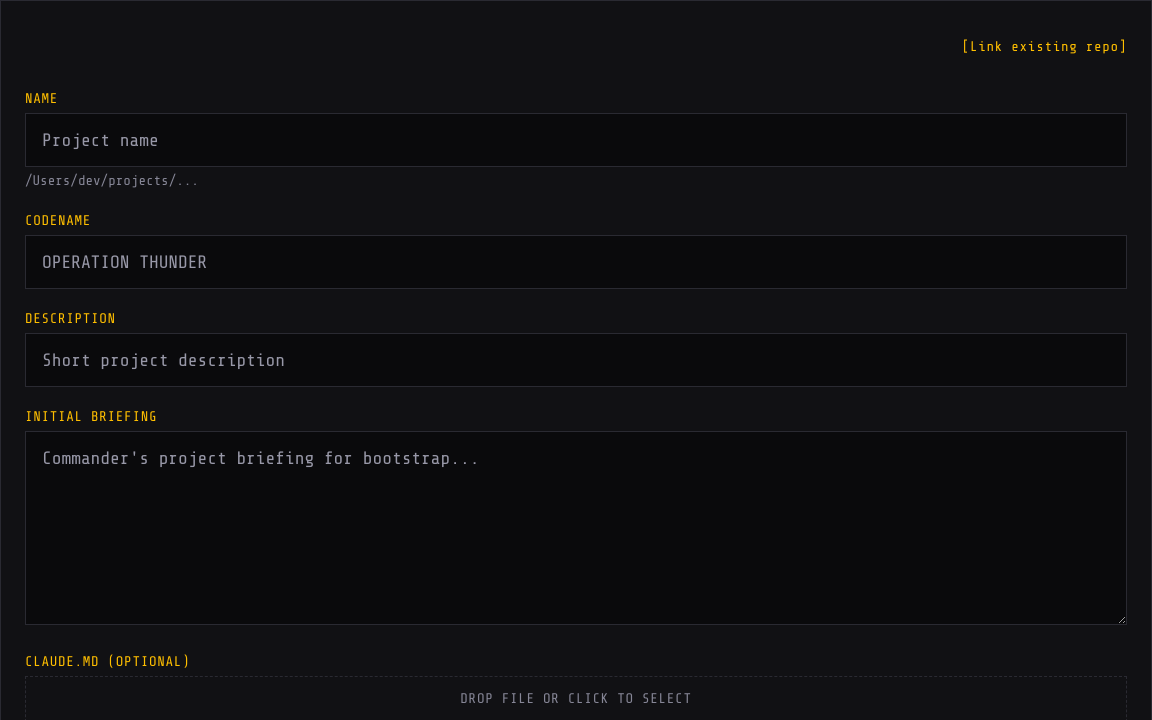
Test: CreateBattlefield › auto-generates codename from name
Type "test project" into the field with placeholder "Project name" at {"x": 576, "y": 140}, box [25,113,1127,167]
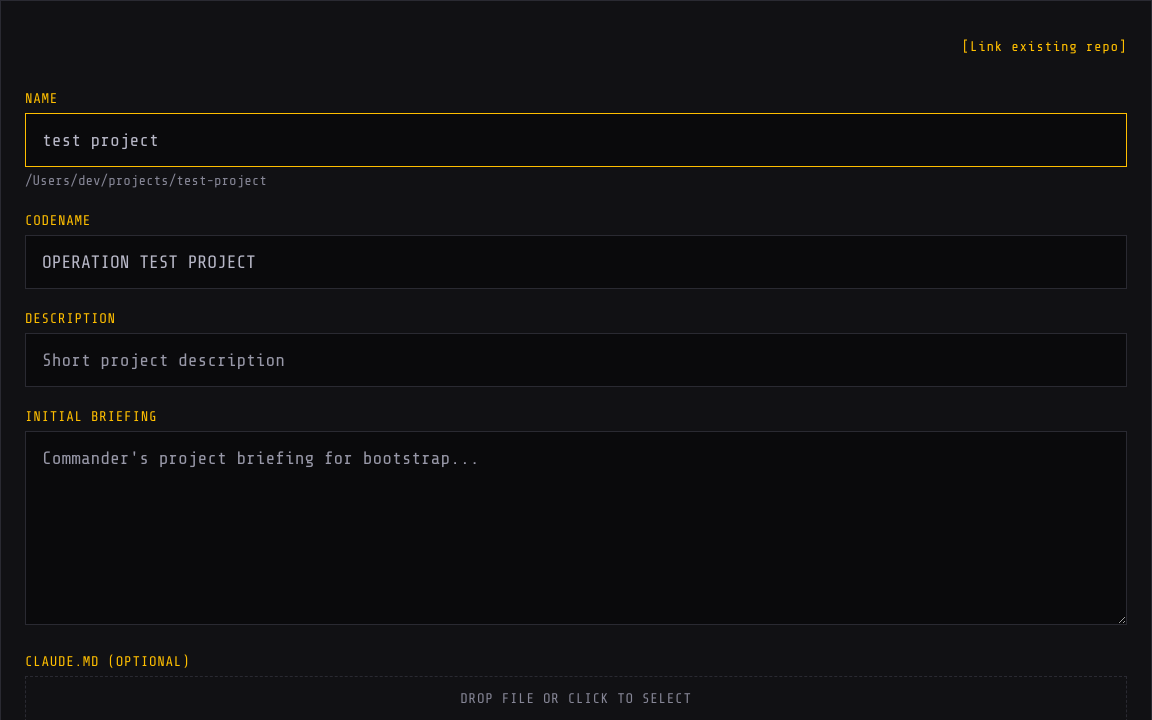
Now the field with placeholder "OPERATION THUNDER" below "CODENAME" holds "OPERATION TEST PROJECT", box [25,235,1127,289]
